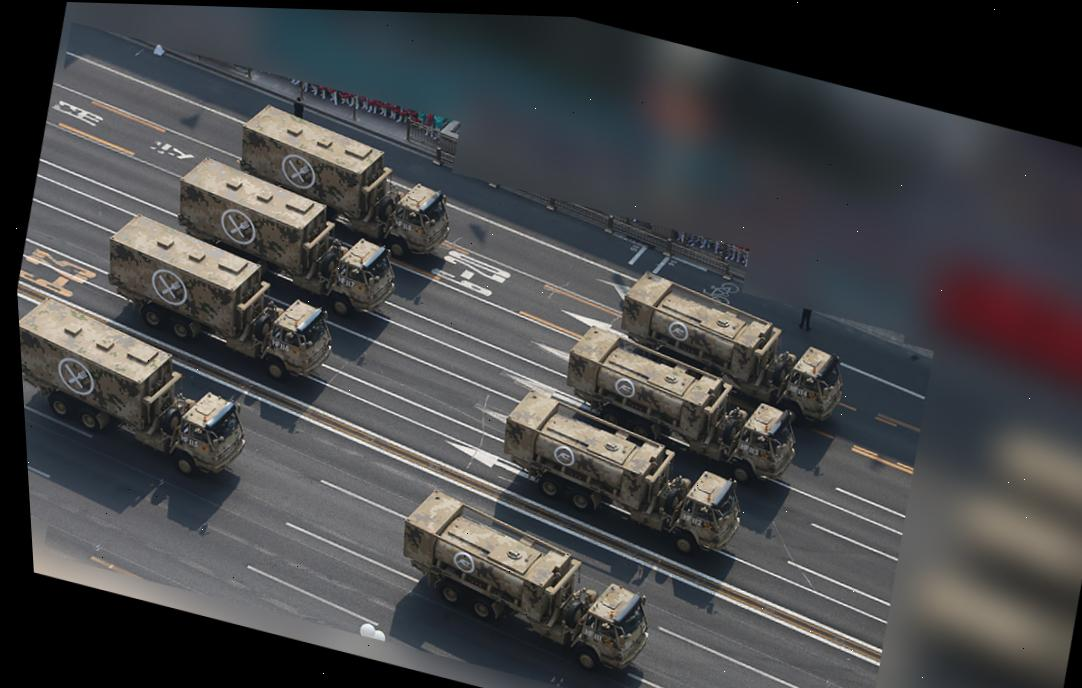truck: (371, 477, 669, 681), (483, 380, 762, 565), (17, 288, 271, 487), (88, 214, 351, 386)
